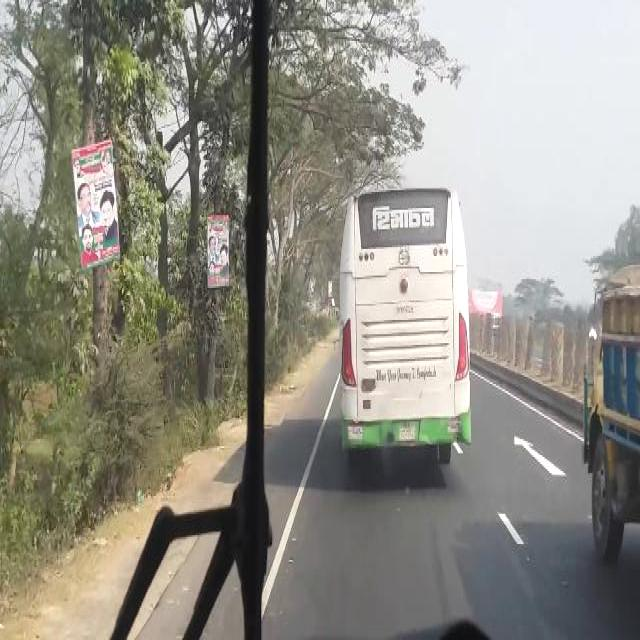BUS: (336, 172, 475, 480)
